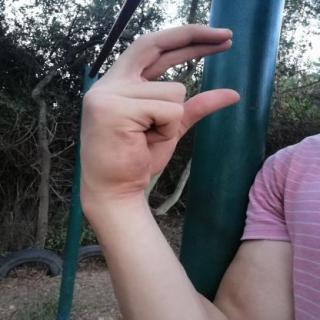DHELL: (66, 17, 256, 207)
